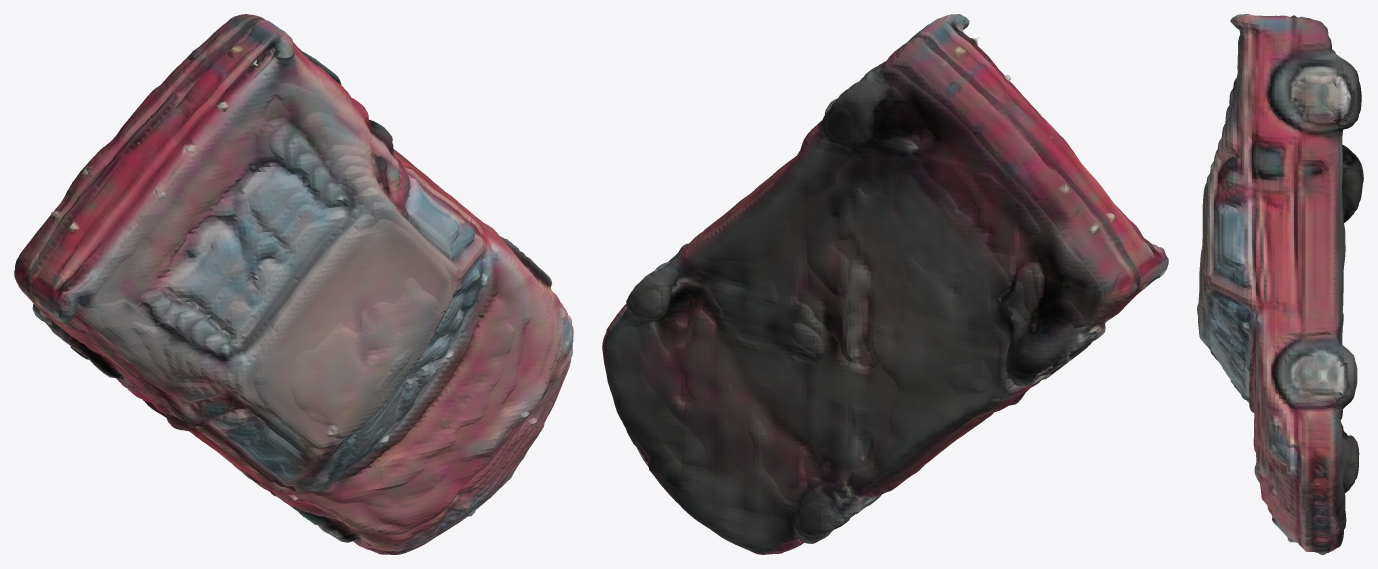
3 renders of one model, left to right at view 1: azimuth 30°, elevation 25°; view 2: azimuth 150°, elevation 25°; view 3: azimuth 270°, elevation 25°, orthographic. The views are drawn at different scales.
Parts seen in each view (by area): view 1: world; view 2: world; view 3: world.
Part boxes in pixels (x1,y1,x2,y2): world: [14, 14, 573, 554]; world: [602, 14, 1168, 554]; world: [1197, 14, 1363, 554].
Bounding box in the file's own units: 0.9232 × 0.9238 × 0.298.
